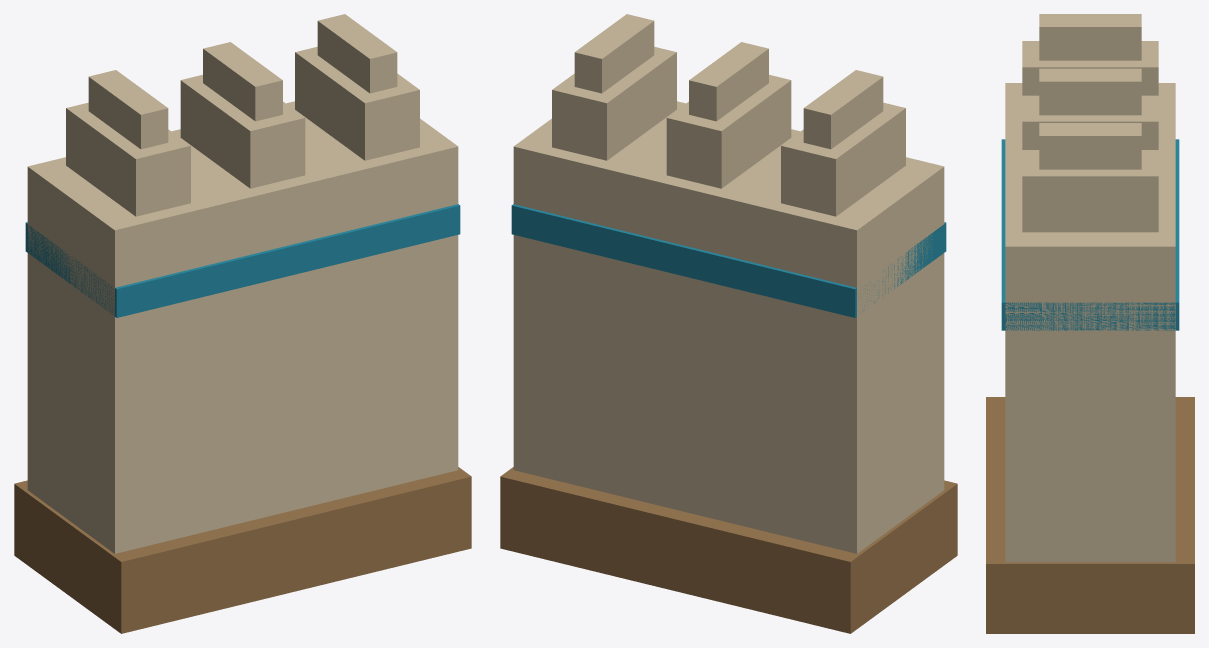
File: wall_t2_seg.glb
3 renders of one model, left to right at view 1: azimuth 30°, elevation 25°; view 2: azimuth 150°, elevation 25°; view 3: azimuth 270°, elevation 25°, orthographic. The views are drawn at different scales.
Visible parts, largest first — view 1: body; view 2: body; view 3: body.
Boxes of the visible parts, left/top/right/bottom form: body: left=14, top=14, right=471, bottom=633; body: left=500, top=14, right=957, bottom=633; body: left=986, top=14, right=1194, bottom=633.
Size of the model in its own units: 1.02 by 1.36 by 0.54.
